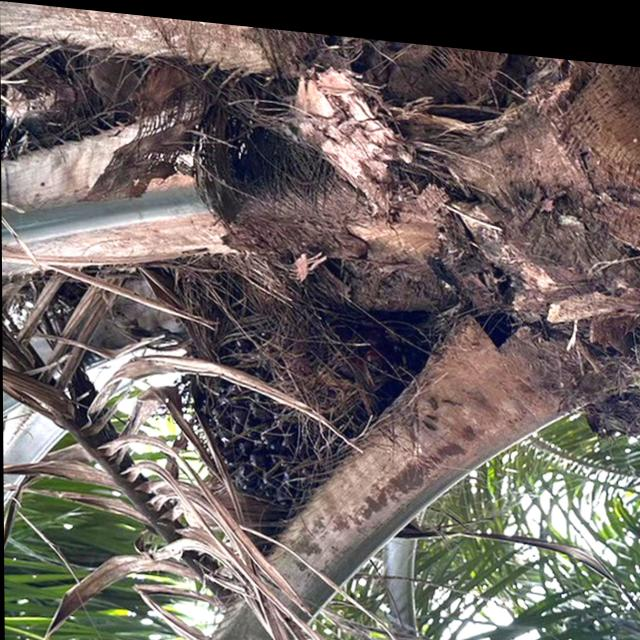almost: (180, 272, 436, 522)
